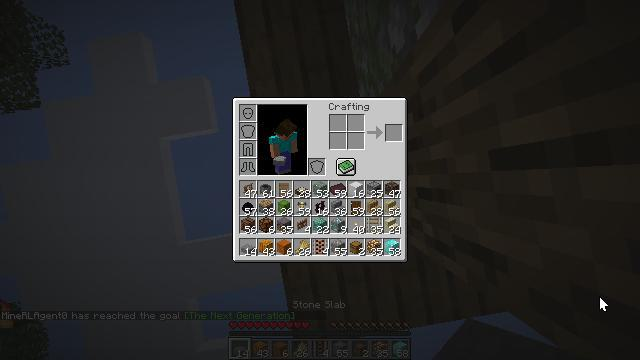cursor: (599, 296, 609, 312)
